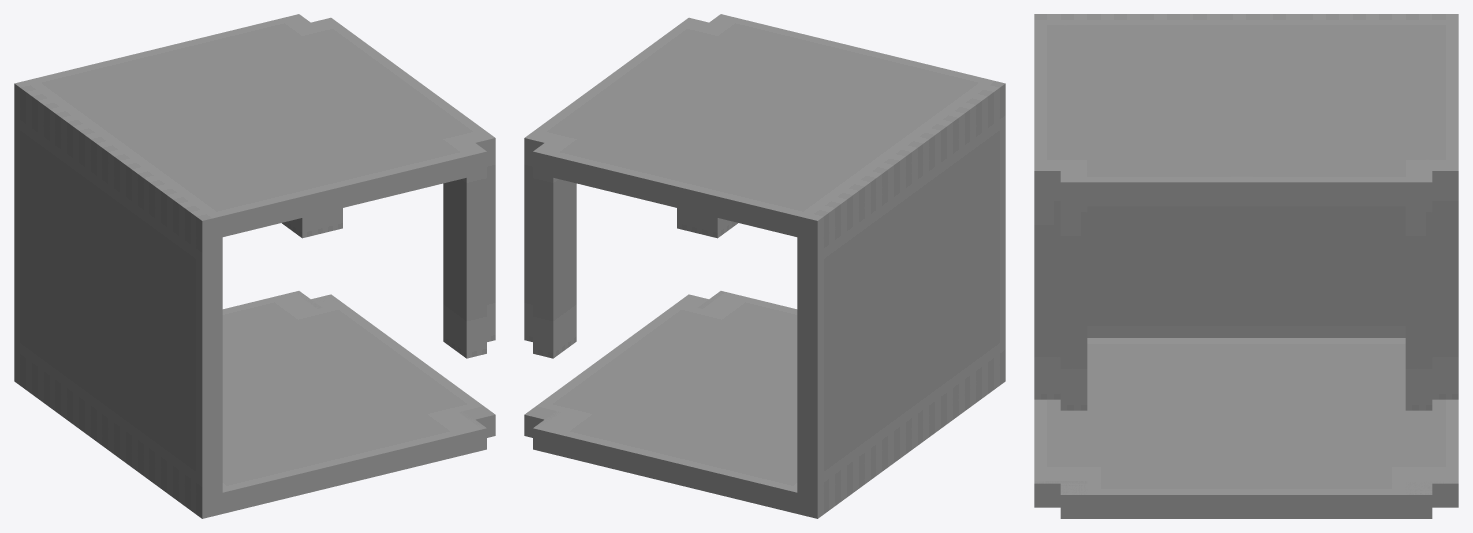
File: vent_T.fbx
3 renders of one model, left to right at view 1: azimuth 30°, elevation 25°; view 2: azimuth 150°, elevation 25°; view 3: azimuth 270°, elevation 25°, orthographic. The views are drawn at different scales.
Visible parts, largest first — view 1: cube, cube_1, cube_6, cube_2, cube_4, cube_3, cube_5, cube_7; view 2: cube, cube_1, cube_6, cube_7, cube_4, cube_3, cube_8, cube_2; view 3: cube, cube_6, cube_1, cube_4, cube_3, cube_2, cube_8, cube_5, cube_7.
Part boxes in pixels (x1,y1,x2,y2): cube: (14, 14, 486, 242); cube_1: (14, 105, 222, 497); cube_6: (14, 291, 486, 518); cube_2: (443, 173, 486, 431); cube_4: (311, 17, 495, 161); cube_3: (311, 294, 495, 437); cube_5: (464, 159, 495, 419); cube_7: (279, 213, 322, 312); cube: (533, 14, 1005, 242); cube_1: (797, 105, 1005, 497); cube_6: (533, 291, 1005, 518); cube_7: (533, 173, 576, 427); cube_4: (524, 17, 708, 161); cube_3: (524, 294, 708, 437); cube_8: (524, 159, 555, 419); cube_2: (697, 213, 740, 312); cube: (1034, 14, 1458, 194); cube_6: (1034, 338, 1458, 507); cube_1: (1087, 206, 1405, 337); cube_4: (1060, 171, 1432, 206); cube_3: (1060, 483, 1432, 518); cube_2: (1034, 195, 1087, 483); cube_8: (1405, 206, 1432, 494); cube_5: (1060, 206, 1087, 494); cube_7: (1406, 195, 1458, 483).
Size of the model in its own units: 93.75 by 87.5 by 100.
